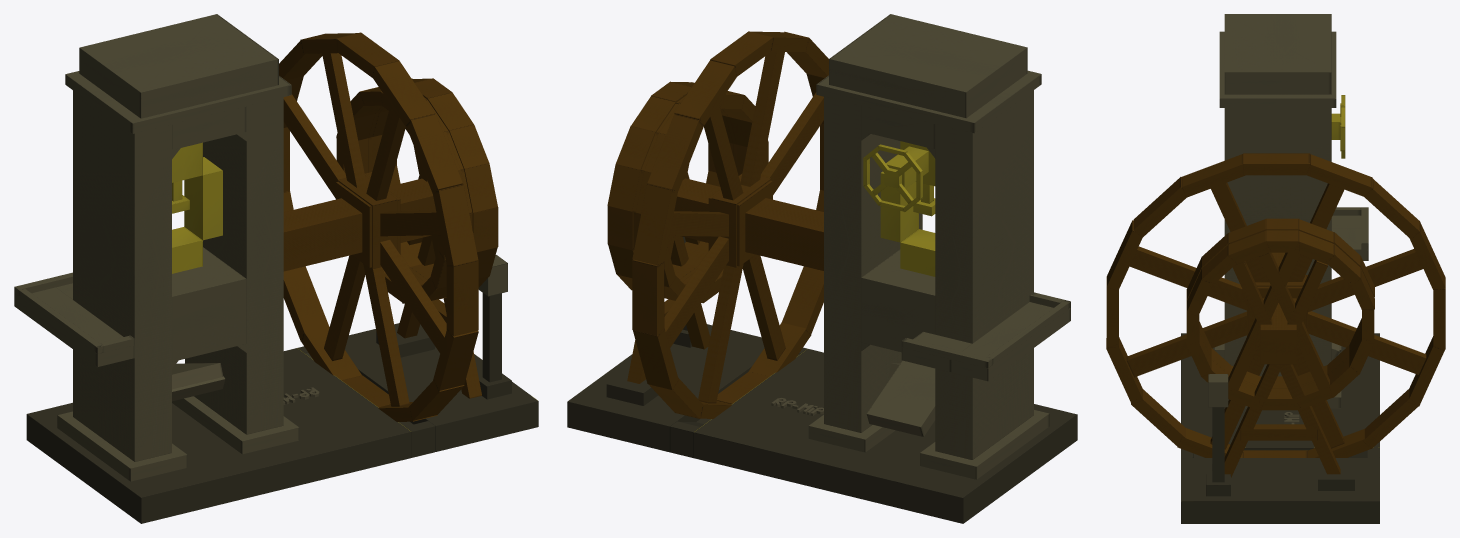
File: goden_press.obj
3 renders of one model, left to right at view 1: azimuth 30°, elevation 25°; view 2: azimuth 150°, elevation 25°; view 3: azimuth 270°, elevation 25°, orthographic. The views are drawn at different scales.
Parts seen in each view (by area): view 1: cube; view 2: cube; view 3: cube.
Boxes of the visible parts, bbox=[...] form: cube: bbox=[14, 14, 538, 523]; cube: bbox=[567, 14, 1077, 523]; cube: bbox=[1106, 14, 1445, 523].
Bounding box in the file's own units: 2.09 × 1.96 × 1.71.
